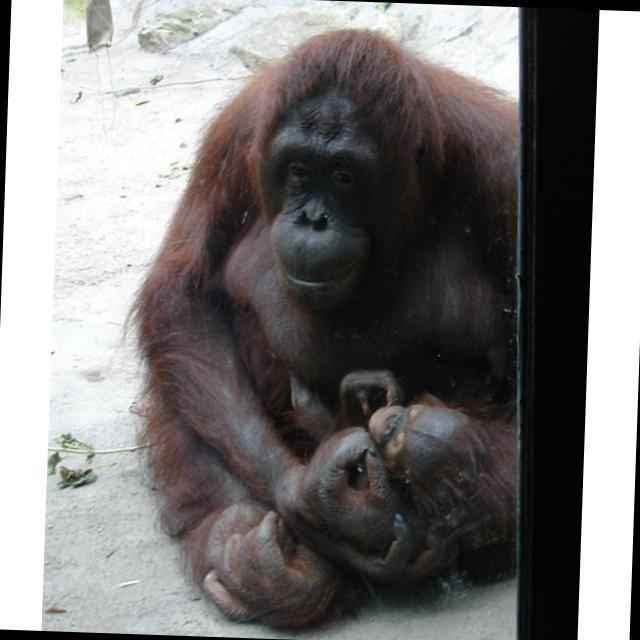Orangutan: (108, 11, 532, 626)
